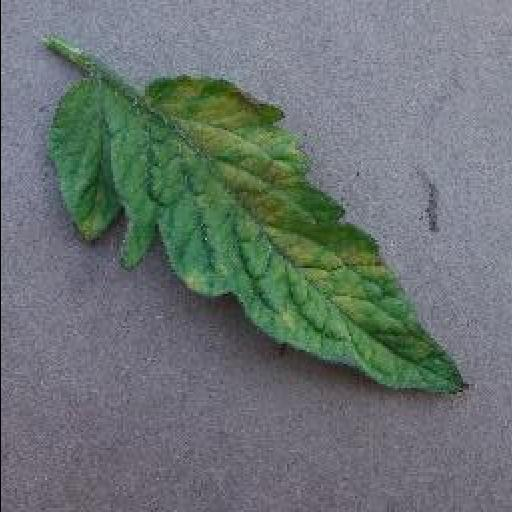disease_tomato: (46, 78, 468, 392)
